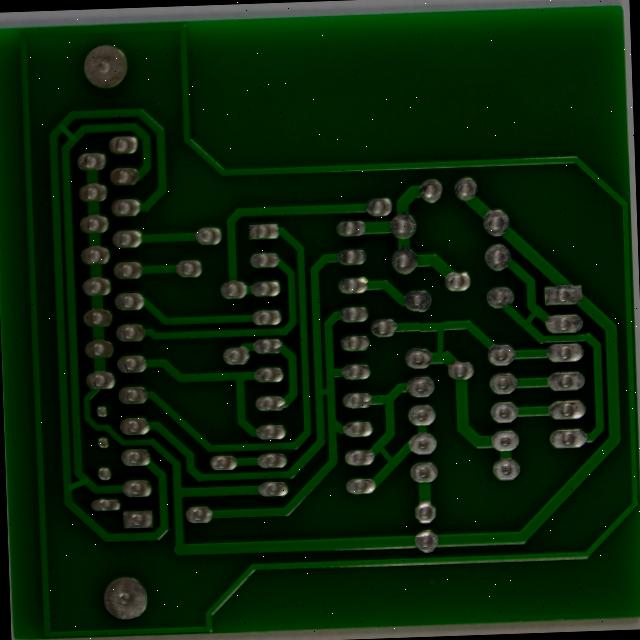short: (26, 95, 64, 133), (418, 304, 446, 355), (41, 458, 76, 494), (360, 433, 390, 468), (514, 289, 538, 322), (299, 371, 328, 396)
